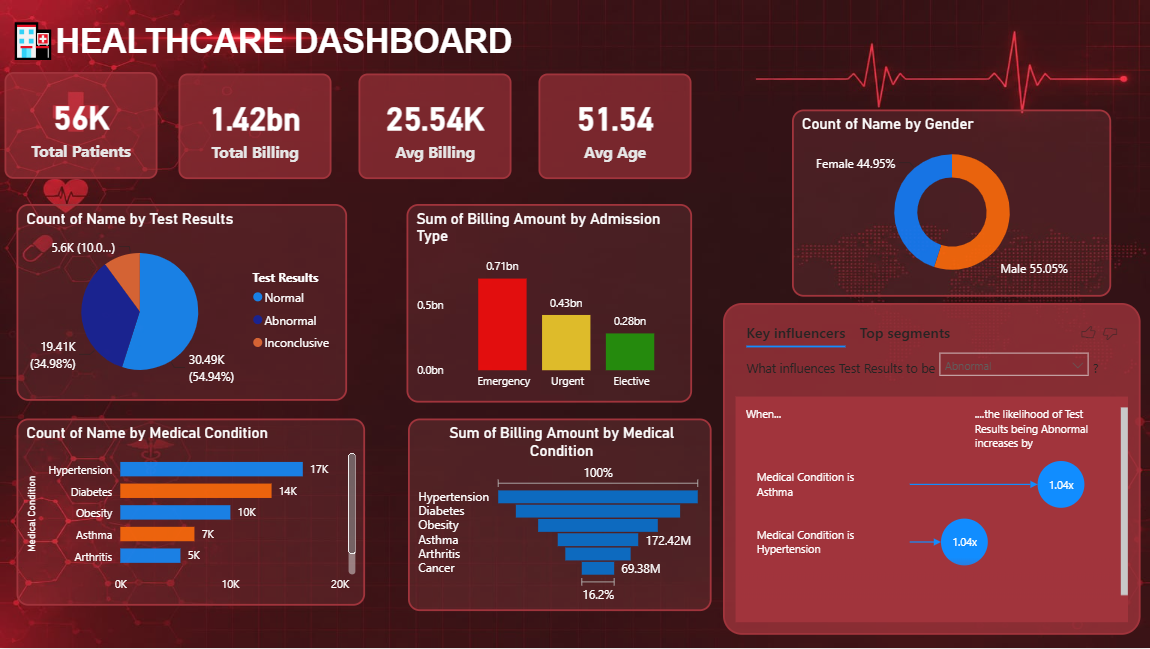

Layout of this report page (visuals, bound fields, positions):
{"tool":"powerbi","page":{"name":"Page 1","canvas":[1280,720],"ordinal":0},"visuals":[{"type":"textbox","box":[0,12.5,658,67.2],"z":0},{"type":"donutChart","fields":{"Category":["healthcare_dataset_.Gender"],"Y":["CountNonNull(healthcare_dataset_.Name)"]},"box":[880,121.9,354.8,207.9],"z":1000},{"type":"clusteredBarChart","fields":{"Category":["healthcare_dataset_.Medical Condition"],"Y":["CountNonNull(healthcare_dataset_.Name)"]},"box":[18.8,464.2,387.6,207.9],"z":2000},{"type":"clusteredColumnChart","fields":{"Category":["healthcare_dataset_.Admission Type"],"Y":["Sum(healthcare_dataset_.Billing Amount)"]},"box":[451.7,226.6,317.3,220.4],"z":3000},{"type":"pieChart","fields":{"Category":["healthcare_dataset_.Test Results"],"Y":["CountNonNull(healthcare_dataset_.Name)"]},"box":[18.8,226.6,367.3,218.8],"z":4000},{"type":"funnel","fields":{"Category":["healthcare_dataset_.Medical Condition","healthcare_dataset_.Insurance Provider"],"Y":["Sum(healthcare_dataset_.Billing Amount)"]},"box":[453.3,464.2,337.6,214.1],"z":5000},{"type":"keyDriversVisual","fields":{"ExplainBy":["Sum(healthcare_dataset_.Age)","healthcare_dataset_.Medical Condition","healthcare_dataset_.Gender","healthcare_dataset_.Insurance Provider"],"Target":["healthcare_dataset_.Test Results"]},"box":[803.4,336,464.2,368.9],"z":6000},{"type":"card","fields":{"Values":["healthcare_dataset_.Total Patients"]},"box":[5.7,80,170,118.6],"z":7000},{"type":"card","fields":{"Values":["healthcare_dataset_.Total Billing"]},"box":[198.4,81.3,170.1,117.2],"z":8000},{"type":"card","fields":{"Values":["healthcare_dataset_.Avg Billing"]},"box":[398.7,81.3,170.1,117.2],"z":9000},{"type":"card","fields":{"Values":["healthcare_dataset_.Avg Age"]},"box":[599.1,81.3,170.1,117.2],"z":10000}]}

Visuals, with their boxes in screenshot pixels (x1, y1, x2, y2), scaled from the page's 1280x720 canvas onto the 1150x649 screenshot:
textbox: x1=0, y1=11, x2=591, y2=72
donutChart - healthcare_dataset_.Gender x CountNonNull(healthcare_dataset_.Name): x1=791, y1=110, x2=1109, y2=297
clusteredBarChart - healthcare_dataset_.Medical Condition x CountNonNull(healthcare_dataset_.Name): x1=17, y1=418, x2=365, y2=606
clusteredColumnChart - healthcare_dataset_.Admission Type x Sum(healthcare_dataset_.Billing Amount): x1=406, y1=204, x2=691, y2=403
pieChart - healthcare_dataset_.Test Results x CountNonNull(healthcare_dataset_.Name): x1=17, y1=204, x2=347, y2=401
funnel - healthcare_dataset_.Medical Condition x healthcare_dataset_.Insurance Provider: x1=407, y1=418, x2=711, y2=611
keyDriversVisual - Sum(healthcare_dataset_.Age) x healthcare_dataset_.Medical Condition: x1=722, y1=303, x2=1139, y2=635
card - healthcare_dataset_.Total Patients: x1=5, y1=72, x2=158, y2=179
card - healthcare_dataset_.Total Billing: x1=178, y1=73, x2=331, y2=179
card - healthcare_dataset_.Avg Billing: x1=358, y1=73, x2=511, y2=179
card - healthcare_dataset_.Avg Age: x1=538, y1=73, x2=691, y2=179
